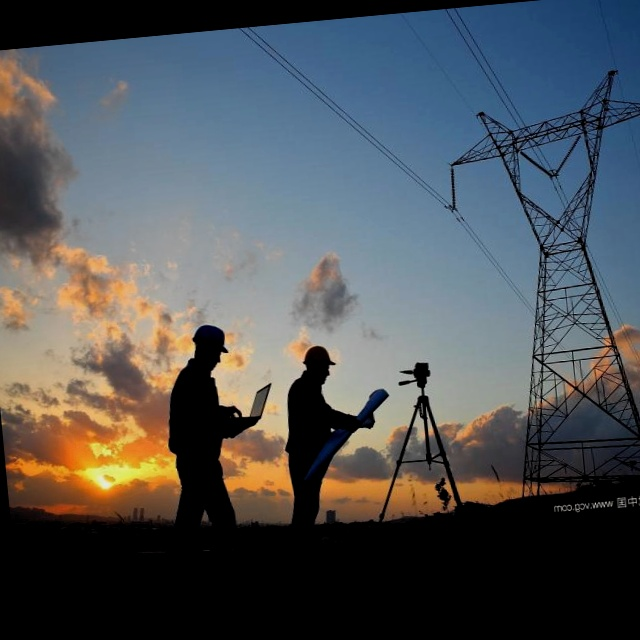Con_Casco: (189, 322, 229, 366), (303, 344, 339, 386)
